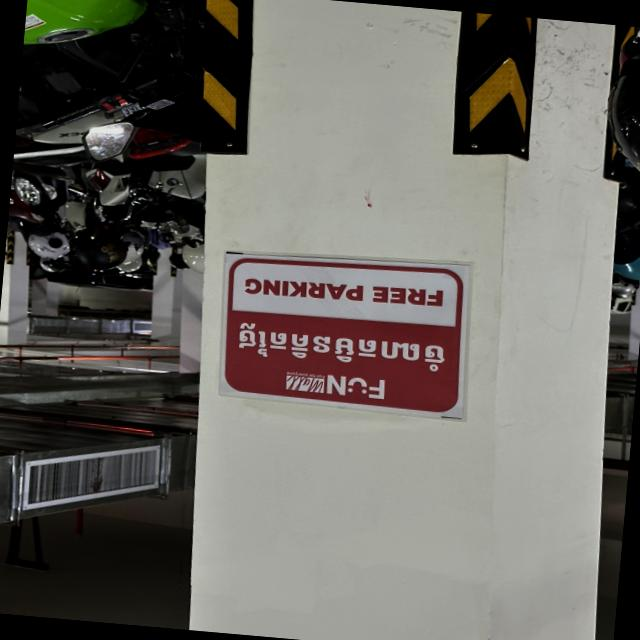Yolov11kh: (232, 318, 451, 375)
